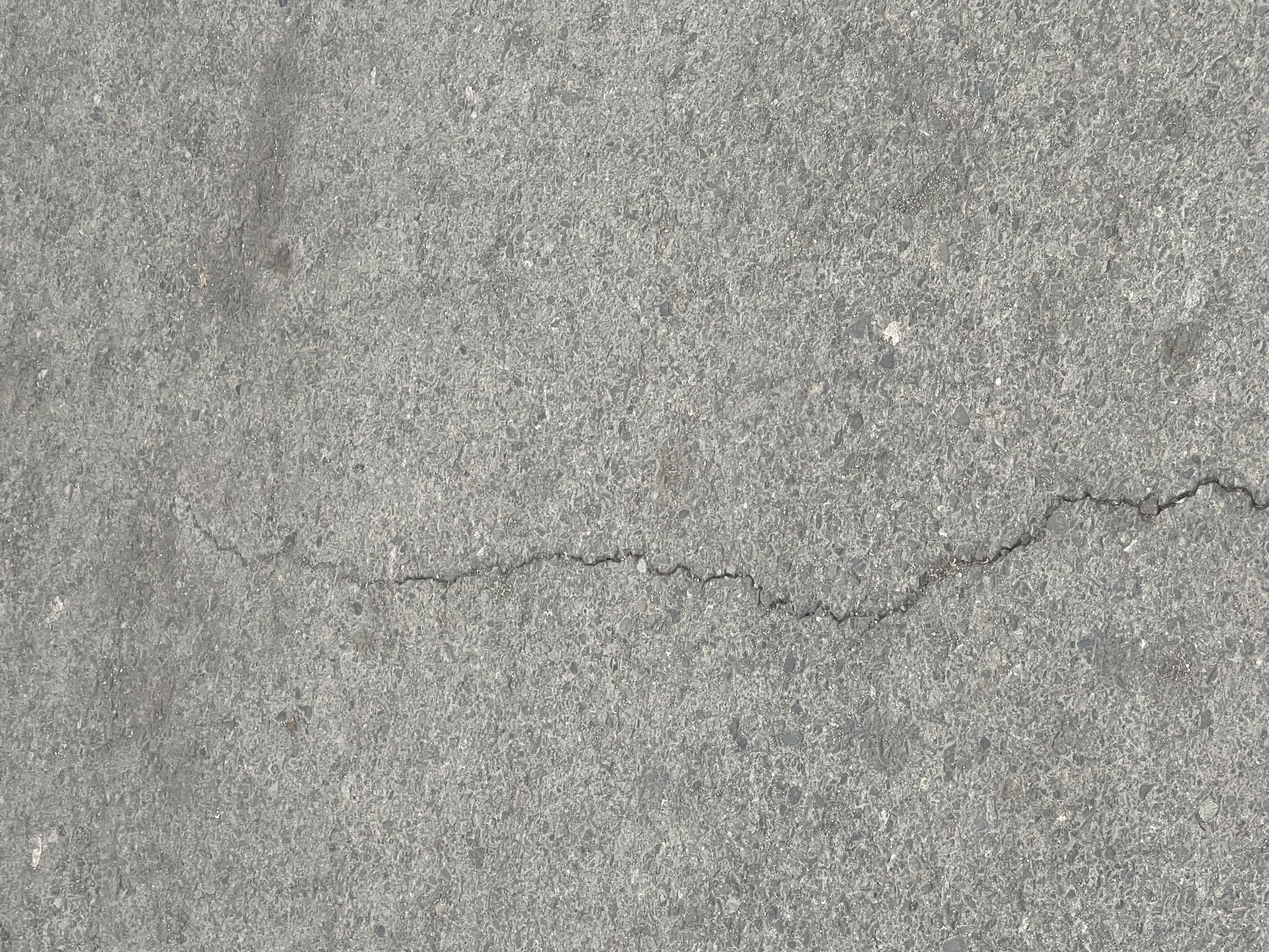GRIETA: (359, 491, 1137, 625), (190, 509, 282, 564), (1159, 475, 1269, 511)
